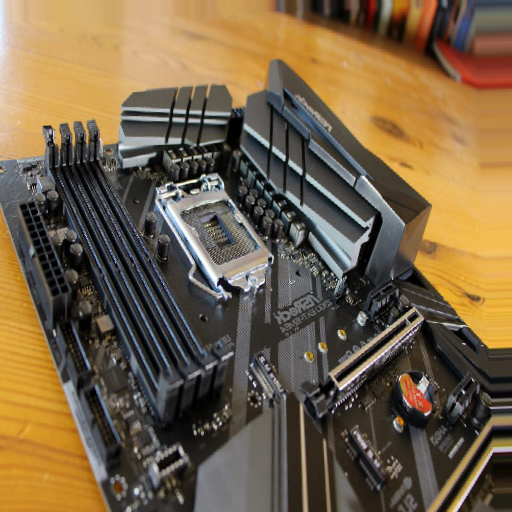CPU: (159, 187, 278, 294)
GPU: (304, 305, 426, 414)
MOTHERBOARD: (7, 56, 511, 508)
RAM: (42, 123, 234, 413)
SSD: (362, 284, 407, 319)
